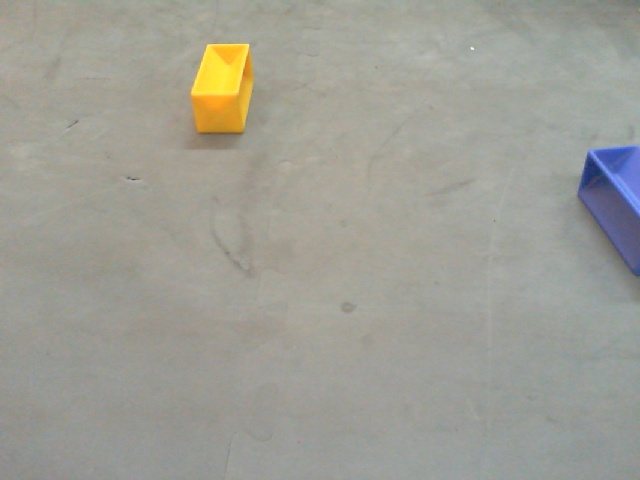BlueSample: (574, 139, 640, 276)
YellowSample: (188, 43, 256, 134)
